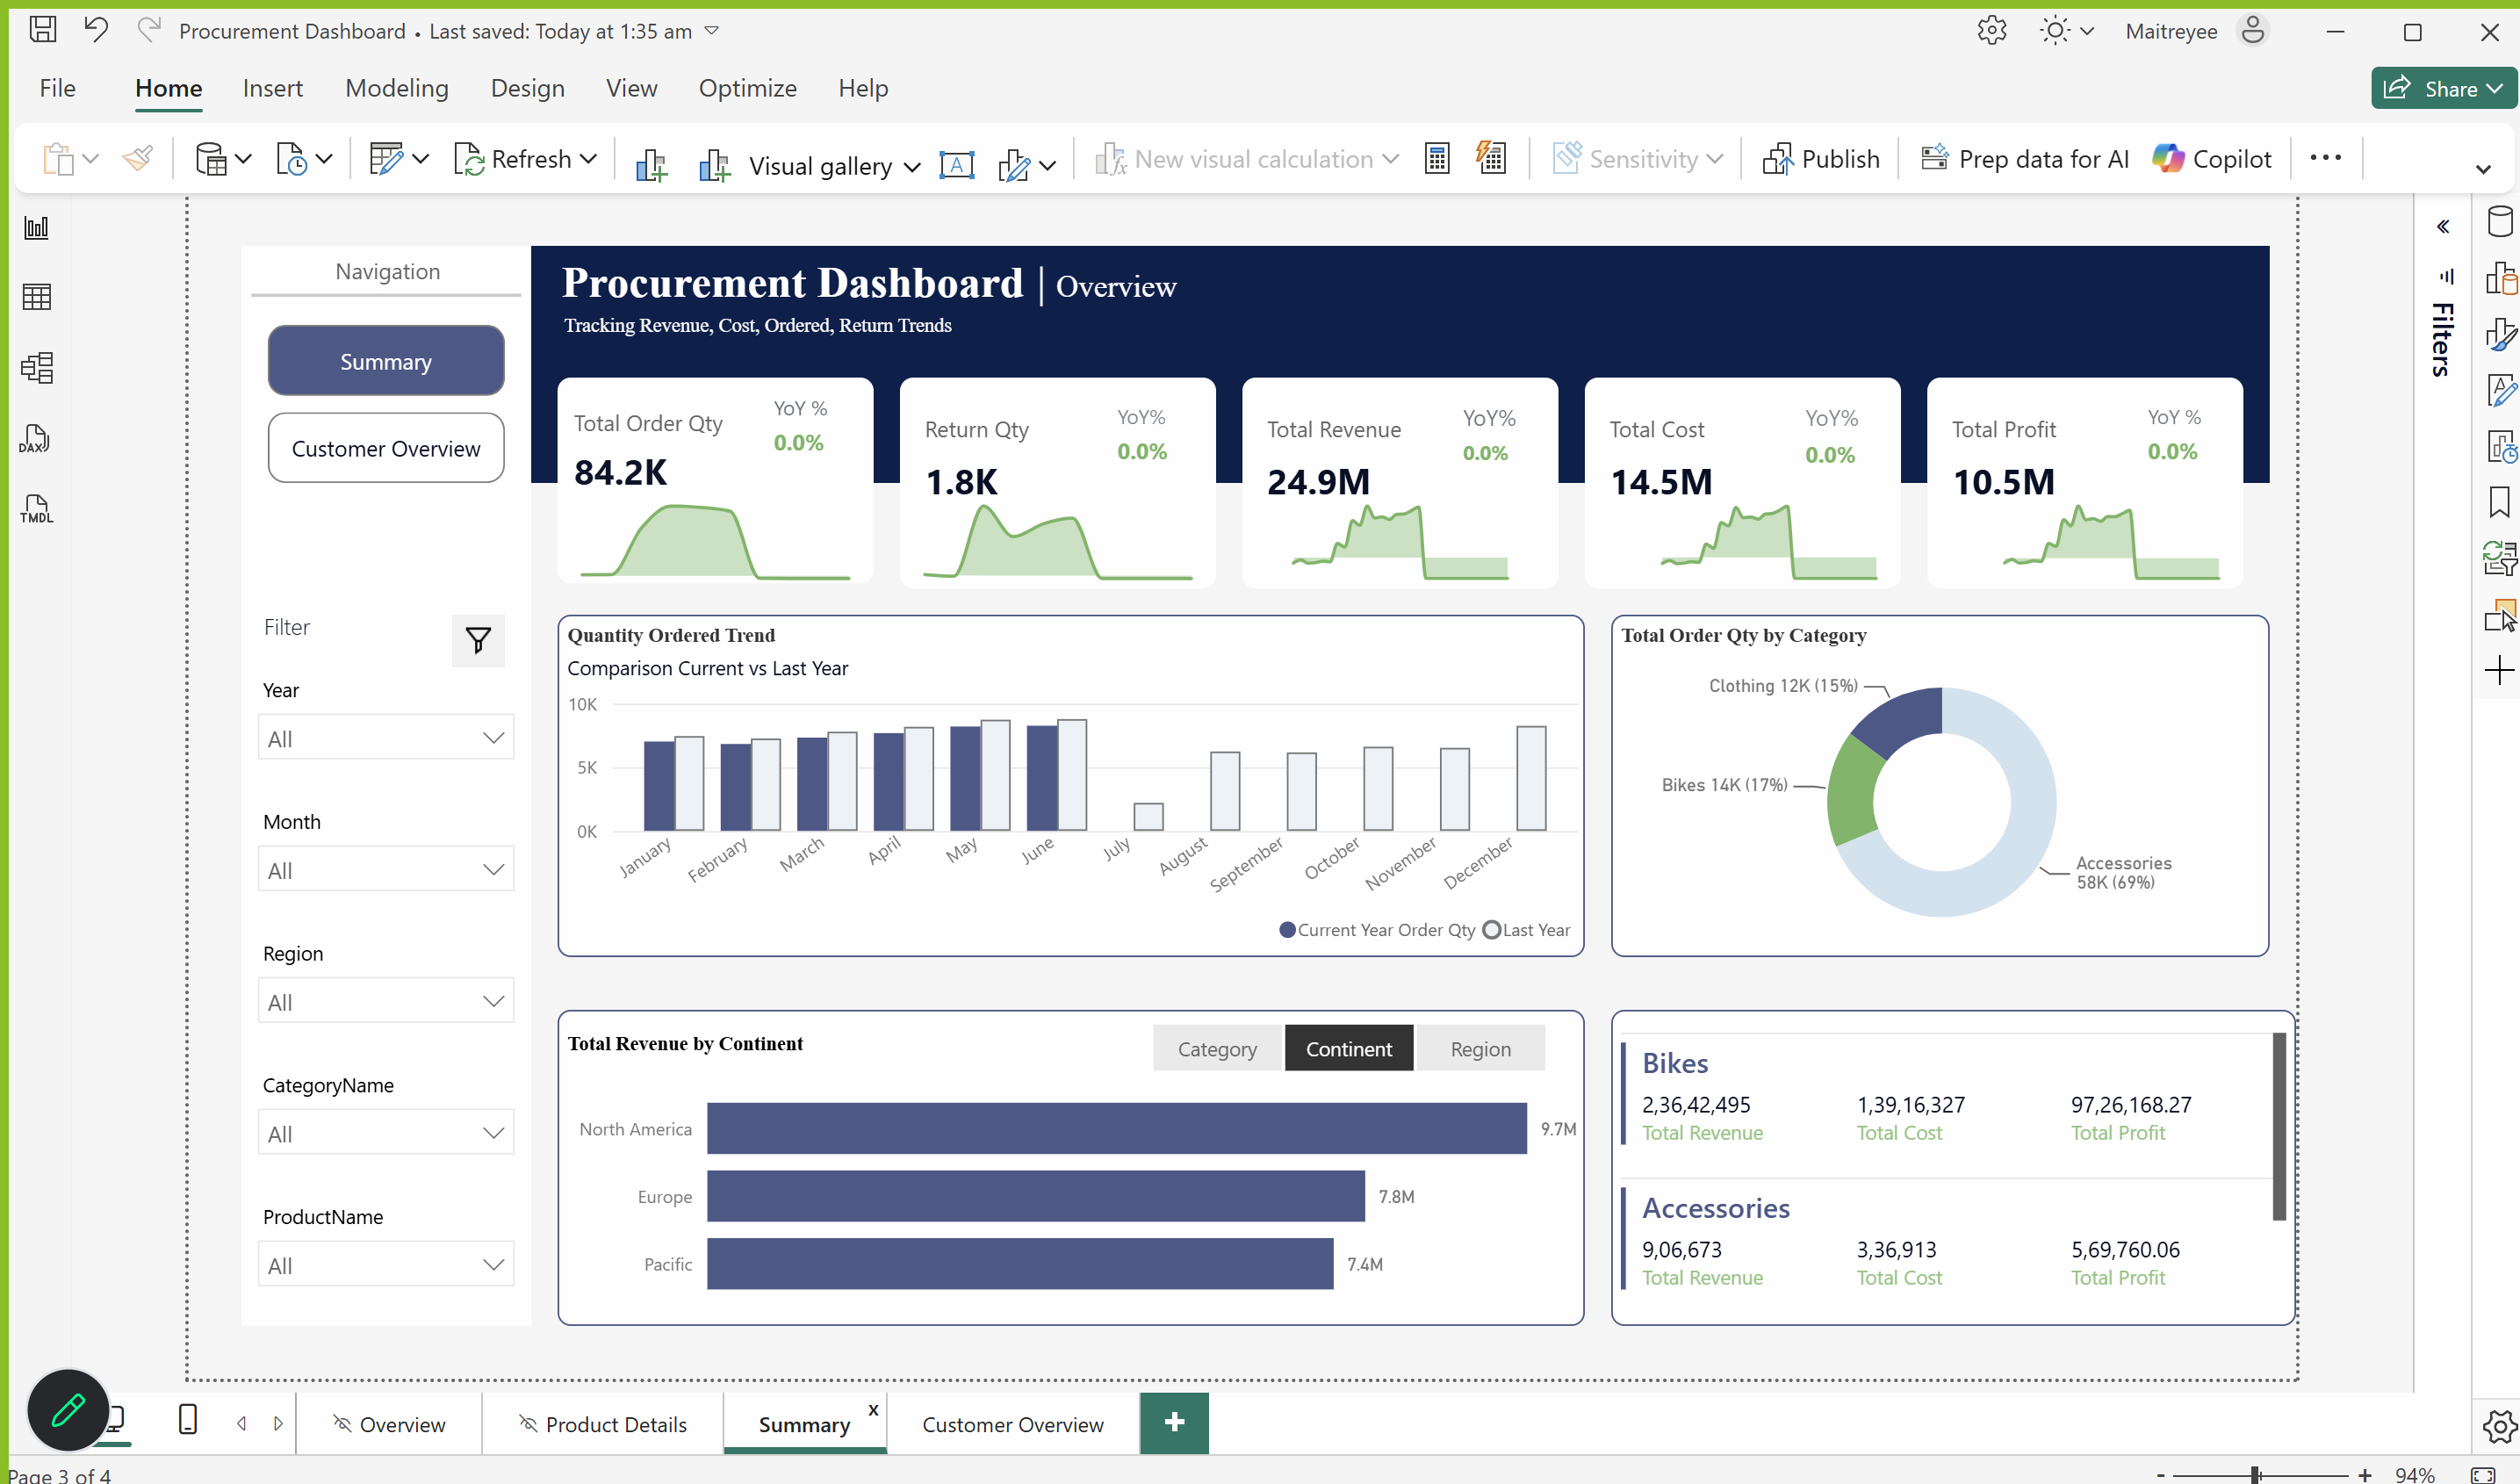

This screenshot's page, from the dashboard's own definition file:
{"tool":"powerbi","page":{"name":"Summary","canvas":[1280,720],"ordinal":2},"visuals":[{"type":"textbox","box":[208,32,1056,144],"z":0},{"type":"cardVisual","fields":{"Data":["00_DAX.Total Order Qty"]},"box":[224,112,192,125],"z":1000},{"type":"cardVisual","fields":{"Data":["00_DAX.Return Qty"]},"box":[432,112,192,128],"z":2000},{"type":"cardVisual","fields":{"Data":["00_DAX.Total Revenue"]},"box":[640,112,192,128],"z":3000},{"type":"cardVisual","fields":{"Data":["00_DAX.Total Cost"]},"box":[848,112,192,128],"z":4000},{"type":"textbox","title":"Navigation","box":[32,32,176,656],"z":5000},{"type":"cardVisual","fields":{"Data":["00_DAX.Total Profit"]},"box":[1056,112,192,128],"z":6000},{"type":"areaChart","fields":{"Category":["M_Date.Date.Variation.Date Hierarchy.Year","M_Date.Date.Variation.Date Hierarchy.Quarter","M_Date.Date.Variation.Date Hierarchy.Month"],"Y":["00_DAX.Order YoY %"]},"box":[224,176,192,64],"z":7000},{"type":"areaChart","fields":{"Category":["M_Date.Date.Variation.Date Hierarchy.Year","M_Date.Date.Variation.Date Hierarchy.Quarter","M_Date.Date.Variation.Date Hierarchy.Month"],"Y":["00_DAX.Return YoY%"]},"box":[480,320,160,64],"z":8000},{"type":"areaChart","fields":{"Category":["M_Date.Date.Variation.Date Hierarchy.Year","M_Date.Date.Variation.Date Hierarchy.Quarter","M_Date.Date.Variation.Date Hierarchy.Month"],"Y":["00_DAX.Revenue YoY%"]},"box":[656,176,160,64],"z":9000},{"type":"areaChart","fields":{"Category":["M_Date.Date.Variation.Date Hierarchy.Year","M_Date.Date.Variation.Date Hierarchy.Quarter","M_Date.Date.Variation.Date Hierarchy.Month"],"Y":["00_DAX.Cost YoY%"]},"box":[880,176,160,64],"z":10000},{"type":"areaChart","fields":{"Category":["M_Date.Date.Variation.Date Hierarchy.Year","M_Date.Date.Variation.Date Hierarchy.Quarter","M_Date.Date.Variation.Date Hierarchy.Month"],"Y":["00_DAX.Profit YoY %"]},"box":[1088,176,160,64],"z":11000},{"type":"clusteredColumnChart","title":"Quantity Ordered Trend","fields":{"Category":["M_Date.Date.Variation.Date Hierarchy.Year","M_Date.Date.Variation.Date Hierarchy.Month"],"Y":["00_DAX.Current Year Order Qty","00_DAX.Same Period Last Year"]},"box":[224,256,624,208],"z":12000},{"type":"donutChart","title":"Total Order Qty by Category","fields":{"Series":["M_Category.CategoryName"],"Y":["00_DAX.Total Order Qty"]},"box":[864,256,400,208],"z":13000},{"type":"slicer","fields":{"Values":["M_Date.Date.Variation.Date Hierarchy.Year"]},"box":[32,288,176,80],"z":14000},{"type":"slicer","fields":{"Values":["M_Date.Date.Variation.Date Hierarchy.Month"]},"box":[32,368,176,80],"z":15000},{"type":"slicer","fields":{"Values":["M_Category.CategoryName"]},"box":[32,528,176,80],"z":16000},{"type":"slicer","fields":{"Values":["M_Territories.Region"]},"box":[32,448,176,80],"z":17000},{"type":"slicer","fields":{"Values":["M_Products.ProductName"]},"box":[32,608,176,80],"z":18000},{"type":"areaChart","fields":{"Category":["M_Date.Date.Variation.Date Hierarchy.Year","M_Date.Date.Variation.Date Hierarchy.Quarter","M_Date.Date.Variation.Date Hierarchy.Month"],"Y":["00_DAX.Return YoY%"]},"box":[432,176,192,64],"z":19000},{"type":"image","box":[160,256,32,32],"z":20000},{"type":"pageNavigator","box":[48,80,144,96],"z":21000},{"type":"clusteredBarChart","fields":{"Category":["M_Territories.Continent"],"Y":["00_DAX.Total Revenue"]},"box":[224,496,624,192],"z":22000},{"type":"slicer","fields":{"Values":["Metric.Metric"]},"box":[560,496,288,48],"z":23000},{"type":"multiRowCard","fields":{"Values":["00_DAX.Total Revenue","00_DAX.Total Cost","00_DAX.Total Profit","M_Category.CategoryName"]},"box":[864,496,416,192],"z":24000}]}

Visuals, with their boxes on the page's 1280x720 design canvas (x1, y1, x2, y2). These are canvas units, not pixel positions in the 2520x1484 screenshot, which may show the page scaled, cropped or inside an application window:
textbox: (left=208, top=32, right=1264, bottom=176)
cardVisual - 00_DAX.Total Order Qty: (left=224, top=112, right=416, bottom=237)
cardVisual - 00_DAX.Return Qty: (left=432, top=112, right=624, bottom=240)
cardVisual - 00_DAX.Total Revenue: (left=640, top=112, right=832, bottom=240)
cardVisual - 00_DAX.Total Cost: (left=848, top=112, right=1040, bottom=240)
"Navigation" textbox: (left=32, top=32, right=208, bottom=688)
cardVisual - 00_DAX.Total Profit: (left=1056, top=112, right=1248, bottom=240)
areaChart - M_Date.Date.Variation.Date Hierarchy.Year x M_Date.Date.Variation.Date Hierarchy.Quarter: (left=224, top=176, right=416, bottom=240)
areaChart - M_Date.Date.Variation.Date Hierarchy.Year x M_Date.Date.Variation.Date Hierarchy.Quarter: (left=480, top=320, right=640, bottom=384)
areaChart - M_Date.Date.Variation.Date Hierarchy.Year x M_Date.Date.Variation.Date Hierarchy.Quarter: (left=656, top=176, right=816, bottom=240)
areaChart - M_Date.Date.Variation.Date Hierarchy.Year x M_Date.Date.Variation.Date Hierarchy.Quarter: (left=880, top=176, right=1040, bottom=240)
areaChart - M_Date.Date.Variation.Date Hierarchy.Year x M_Date.Date.Variation.Date Hierarchy.Quarter: (left=1088, top=176, right=1248, bottom=240)
"Quantity Ordered Trend" clusteredColumnChart: (left=224, top=256, right=848, bottom=464)
"Total Order Qty by Category" donutChart: (left=864, top=256, right=1264, bottom=464)
slicer - M_Date.Date.Variation.Date Hierarchy.Year: (left=32, top=288, right=208, bottom=368)
slicer - M_Date.Date.Variation.Date Hierarchy.Month: (left=32, top=368, right=208, bottom=448)
slicer - M_Category.CategoryName: (left=32, top=528, right=208, bottom=608)
slicer - M_Territories.Region: (left=32, top=448, right=208, bottom=528)
slicer - M_Products.ProductName: (left=32, top=608, right=208, bottom=688)
areaChart - M_Date.Date.Variation.Date Hierarchy.Year x M_Date.Date.Variation.Date Hierarchy.Quarter: (left=432, top=176, right=624, bottom=240)
image: (left=160, top=256, right=192, bottom=288)
pageNavigator: (left=48, top=80, right=192, bottom=176)
clusteredBarChart - M_Territories.Continent x 00_DAX.Total Revenue: (left=224, top=496, right=848, bottom=688)
slicer - Metric.Metric: (left=560, top=496, right=848, bottom=544)
multiRowCard - 00_DAX.Total Revenue x 00_DAX.Total Cost: (left=864, top=496, right=1280, bottom=688)
